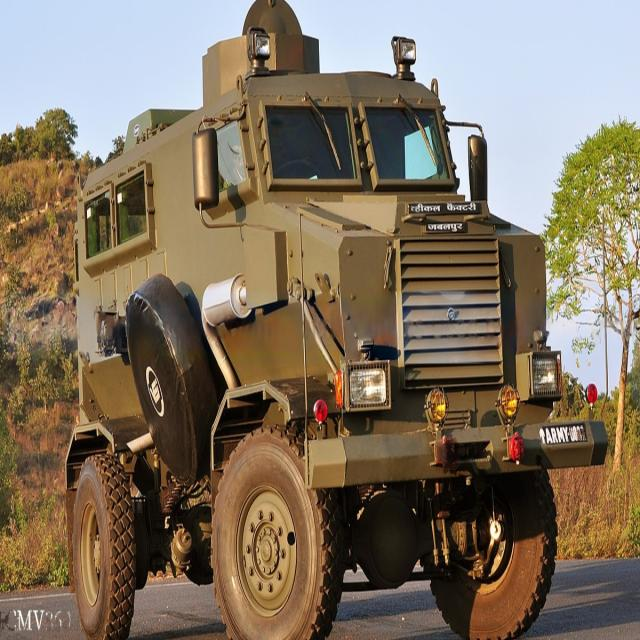truck: (65, 0, 608, 638)
